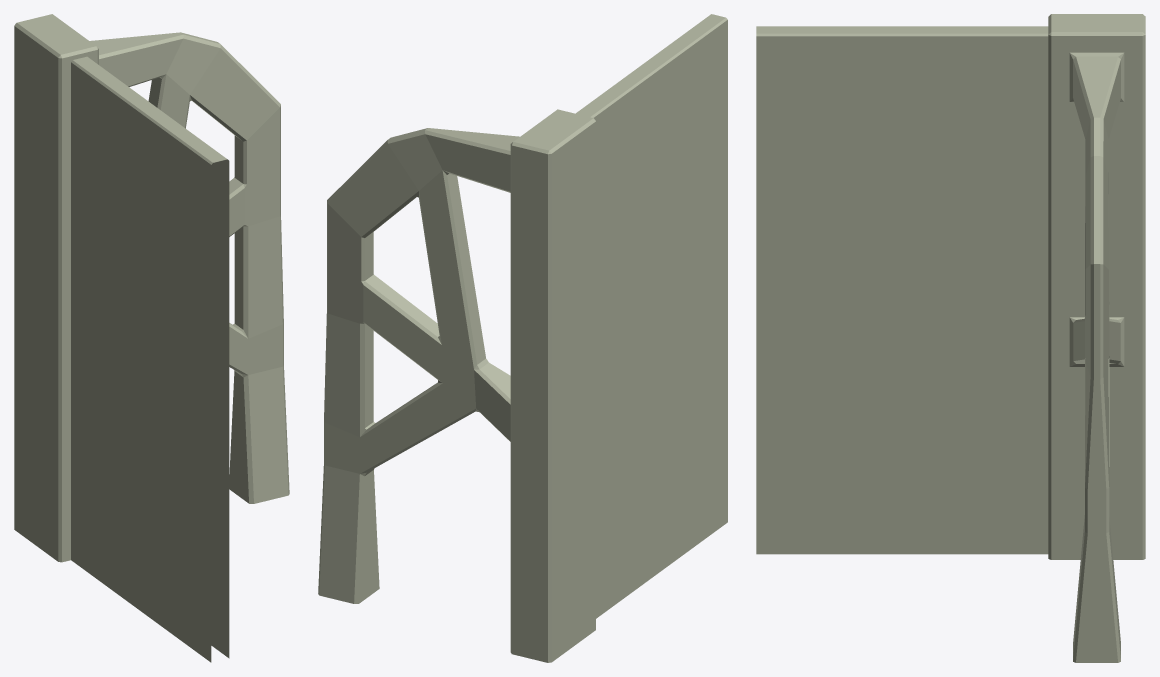
The model's file is Wallsection_20_05__2016.fbx.
3 renders of one model, left to right at view 1: azimuth 30°, elevation 25°; view 2: azimuth 150°, elevation 25°; view 3: azimuth 270°, elevation 25°, orthographic. The views are drawn at different scales.
Visible parts, largest first — view 1: Cube; view 2: Cube; view 3: Cube.
Part boxes in pixels (x1,y1,x2,y2): Cube: [14, 14, 289, 662]; Cube: [318, 14, 727, 662]; Cube: [756, 14, 1145, 662].
Bounding box in the file's own units: 1500 × 2985 × 2000.
